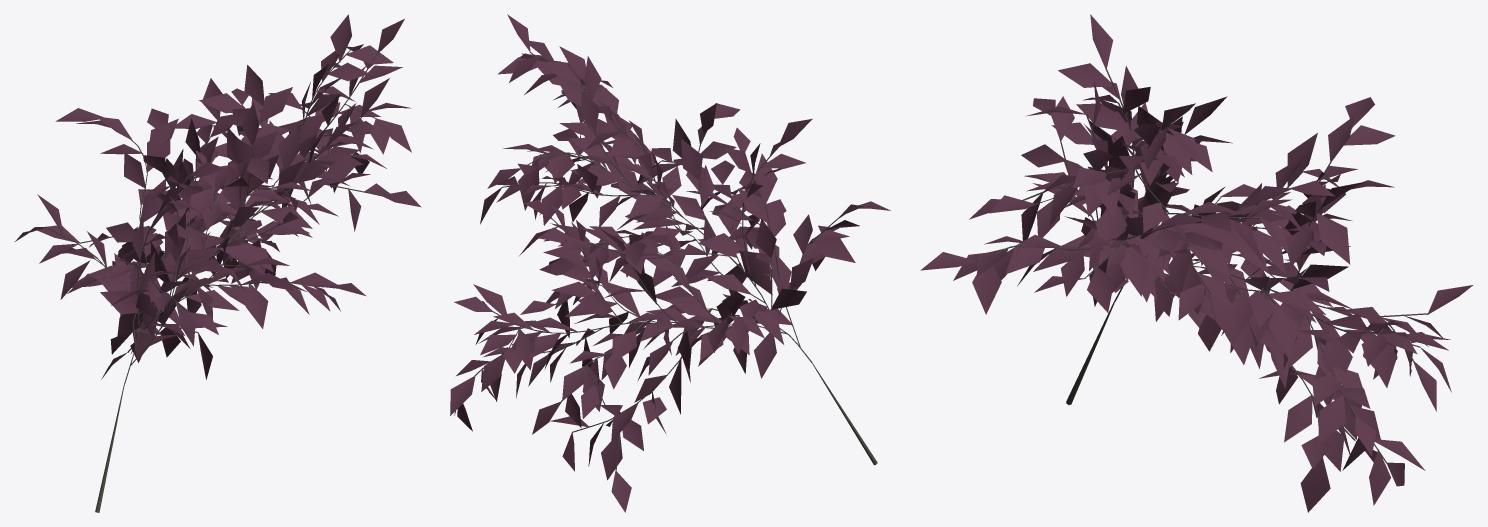
Rendered from Tree 8.glb.
3 views of the same model, side by side, from view 1: azimuth 30°, elevation 25°; view 2: azimuth 150°, elevation 25°; view 3: azimuth 270°, elevation 25° (orthographic). The views are drawn at different scales.
Visible parts, largest first — view 1: Tree_Prunus-cerasifera_A_summer.005_Tree_Prunus-cerasifera_A; view 2: Tree_Prunus-cerasifera_A_summer.005_Tree_Prunus-cerasifera_A; view 3: Tree_Prunus-cerasifera_A_summer.005_Tree_Prunus-cerasifera_A.
Boxes of the visible parts, x1,y1,x2,y2 form: Tree_Prunus-cerasifera_A_summer.005_Tree_Prunus-cerasifera_A: (15, 14, 421, 512); Tree_Prunus-cerasifera_A_summer.005_Tree_Prunus-cerasifera_A: (450, 14, 890, 512); Tree_Prunus-cerasifera_A_summer.005_Tree_Prunus-cerasifera_A: (920, 14, 1473, 512).
Bounding box in the file's own units: 1.48 × 1.63 × 1.67.
